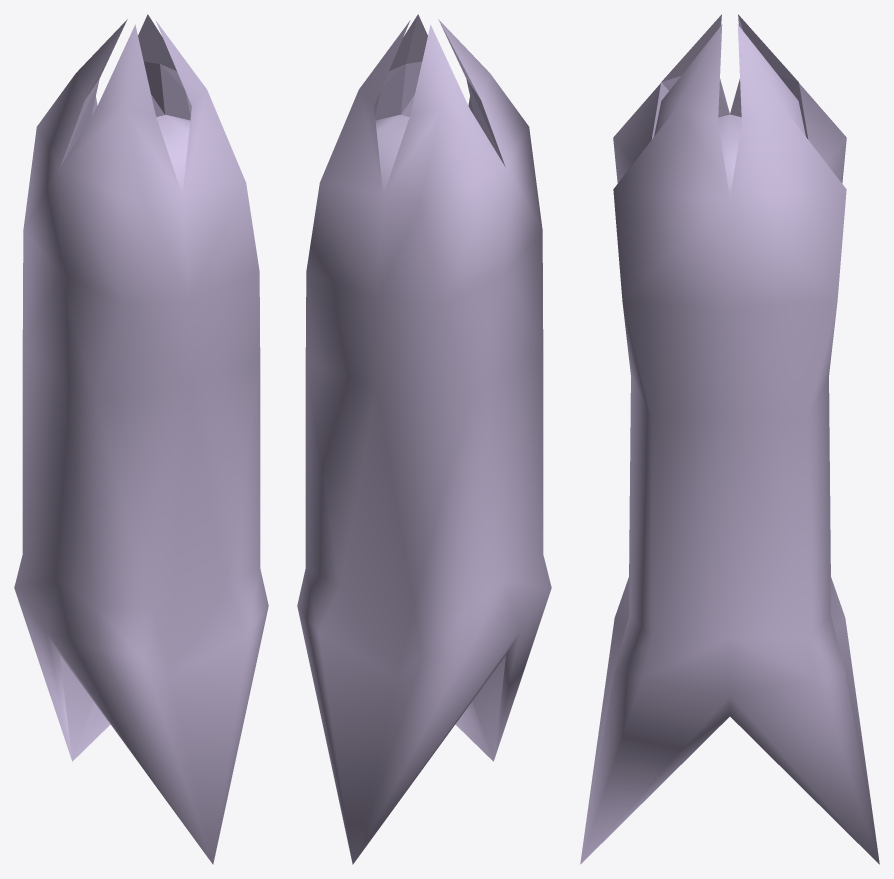
The picture shows the model from 3 angles, left to right: view 1: azimuth 30°, elevation 25°; view 2: azimuth 150°, elevation 25°; view 3: azimuth 270°, elevation 25°; orthographic projection. The views are drawn at different scales.
Visible parts, largest first — view 1: Object06; view 2: Object06; view 3: Object06.
Part boxes in pixels (left/top/right/bottom): Object06: left=14, top=14, right=268, bottom=864; Object06: left=297, top=14, right=551, bottom=864; Object06: left=580, top=14, right=879, bottom=864.
Bounding box in the file's own units: 118 × 468 × 150.
